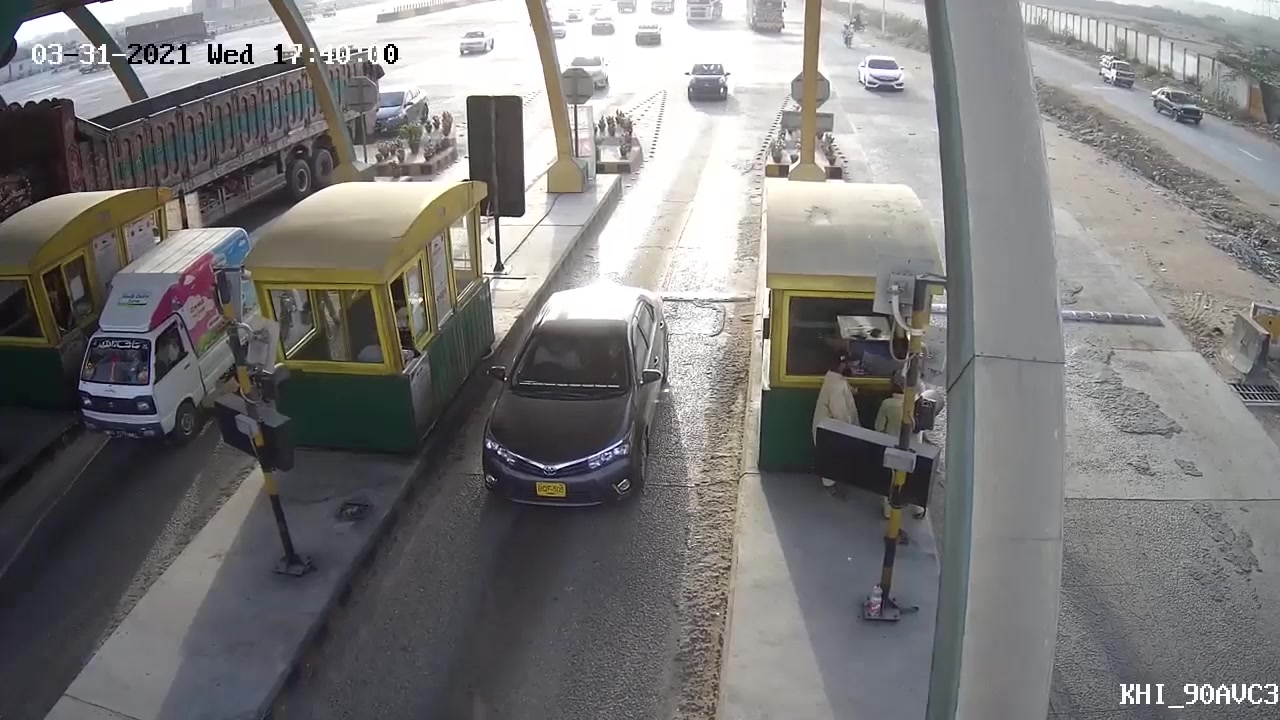F1: (474, 274, 678, 513)
